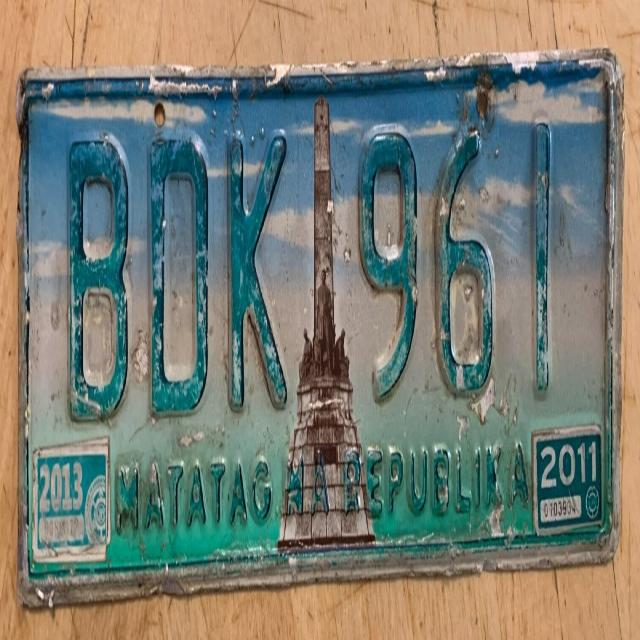Text: (21, 68, 619, 566)
